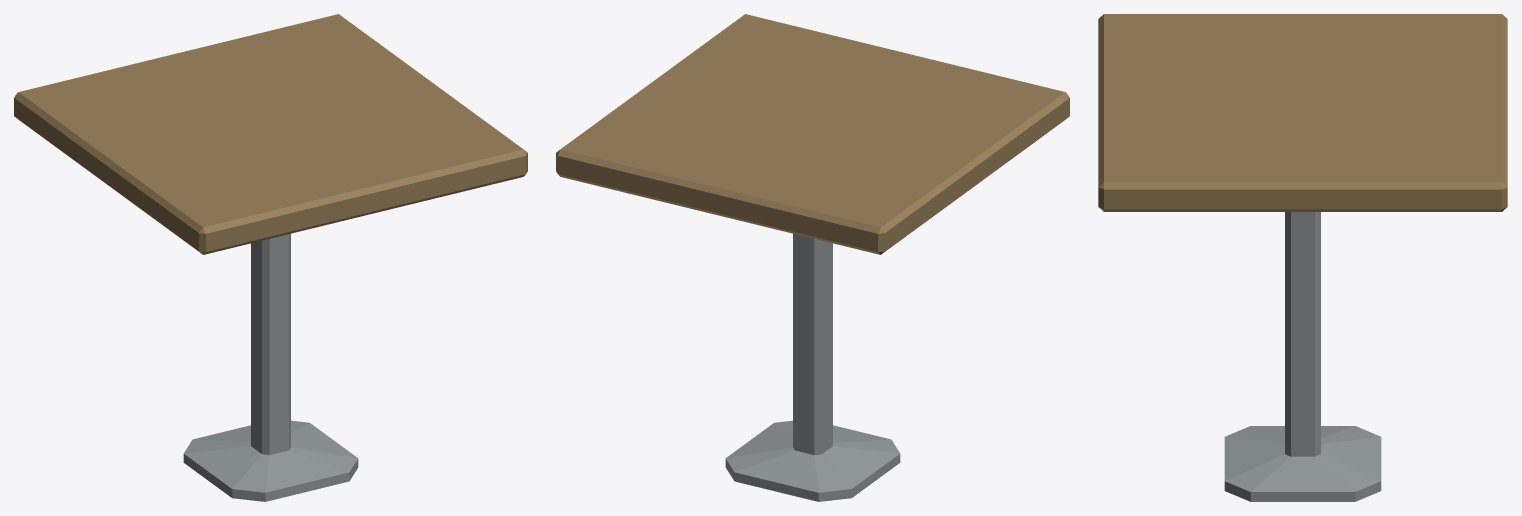
File: SM_Props_Interior_Shop_Restaurant_Table_04.fbx
The picture shows the model from 3 angles, left to right: view 1: azimuth 30°, elevation 25°; view 2: azimuth 150°, elevation 25°; view 3: azimuth 270°, elevation 25°; orthographic projection. The views are drawn at different scales.
Parts seen in each view (by area): view 1: SM_Props_Interior_Shop_Restaurant_Table_04; view 2: SM_Props_Interior_Shop_Restaurant_Table_04; view 3: SM_Props_Interior_Shop_Restaurant_Table_04.
Boxes of the visible parts, x1=… form: SM_Props_Interior_Shop_Restaurant_Table_04: x1=14, y1=14, x2=527, y2=501; SM_Props_Interior_Shop_Restaurant_Table_04: x1=556, y1=14, x2=1069, y2=501; SM_Props_Interior_Shop_Restaurant_Table_04: x1=1098, y1=14, x2=1507, y2=501.
Size of the model in its own units: 75 by 75 by 75.
